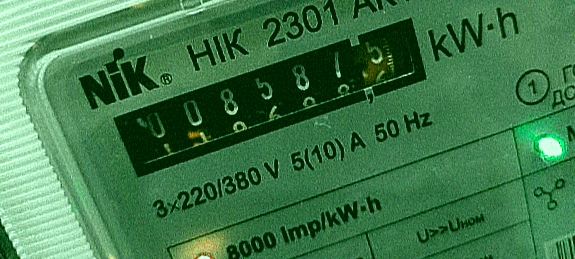0: (177, 92, 207, 130), (140, 105, 170, 141)
5: (250, 69, 277, 103), (360, 32, 386, 65)
6: (370, 66, 390, 85)
7: (322, 46, 349, 83)
8: (215, 83, 243, 118), (286, 58, 313, 94)
screen: (96, 12, 456, 182)
